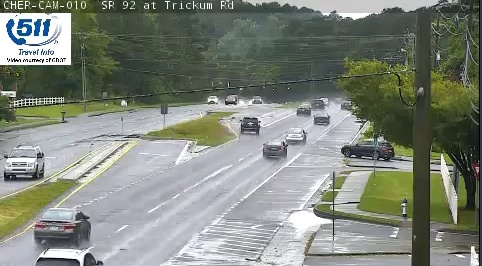car: (34, 208, 90, 240), (263, 140, 287, 157), (285, 128, 306, 143), (240, 117, 259, 133), (313, 113, 329, 124)
